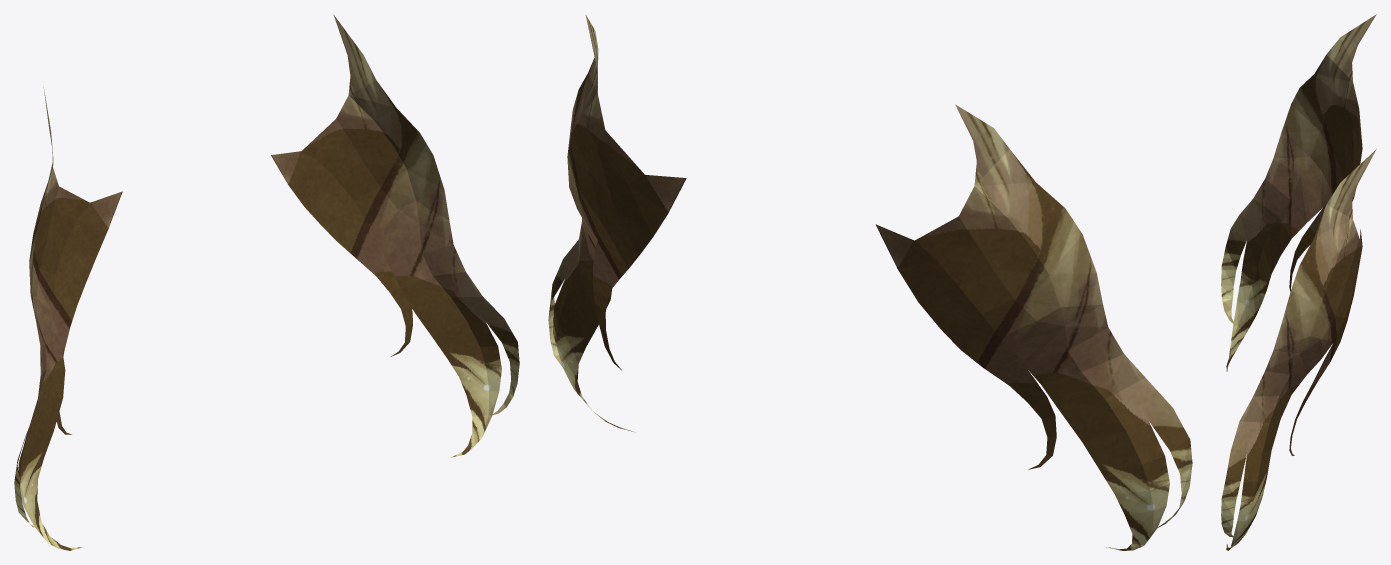
Rendered from skinSource0JJE.obj.
3 views of the same model, side by side, from view 1: azimuth 30°, elevation 25°; view 2: azimuth 150°, elevation 25°; view 3: azimuth 270°, elevation 25° (orthographic). The views are drawn at different scales.
Parts seen in each view (by area): view 1: skinSource0JJE; view 2: skinSource0JJE; view 3: skinSource0JJE.
Part boxes in pixels (x1,y1,x2,y2): skinSource0JJE: (14, 14, 519, 550); skinSource0JJE: (548, 15, 1192, 550); skinSource0JJE: (1221, 14, 1376, 550).
Bounding box in the file's own units: 36.9 × 27.87 × 10.44.
